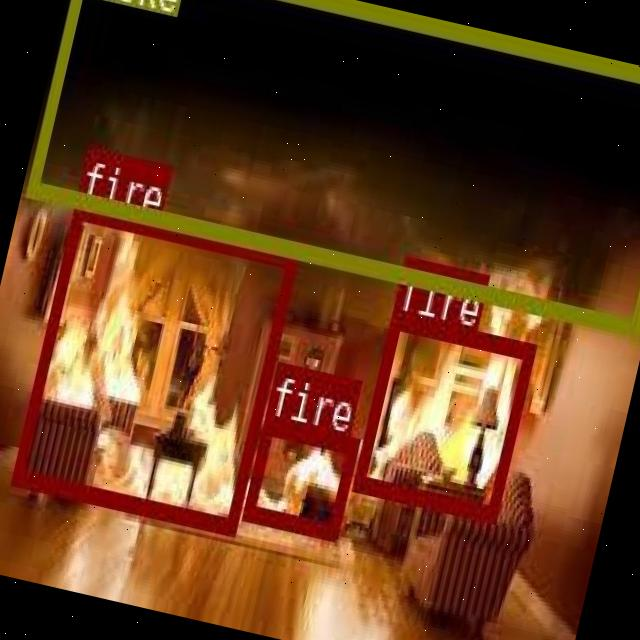fire: (10, 198, 298, 532), (352, 308, 534, 517), (241, 416, 357, 536)
smoke: (24, 0, 640, 335)
